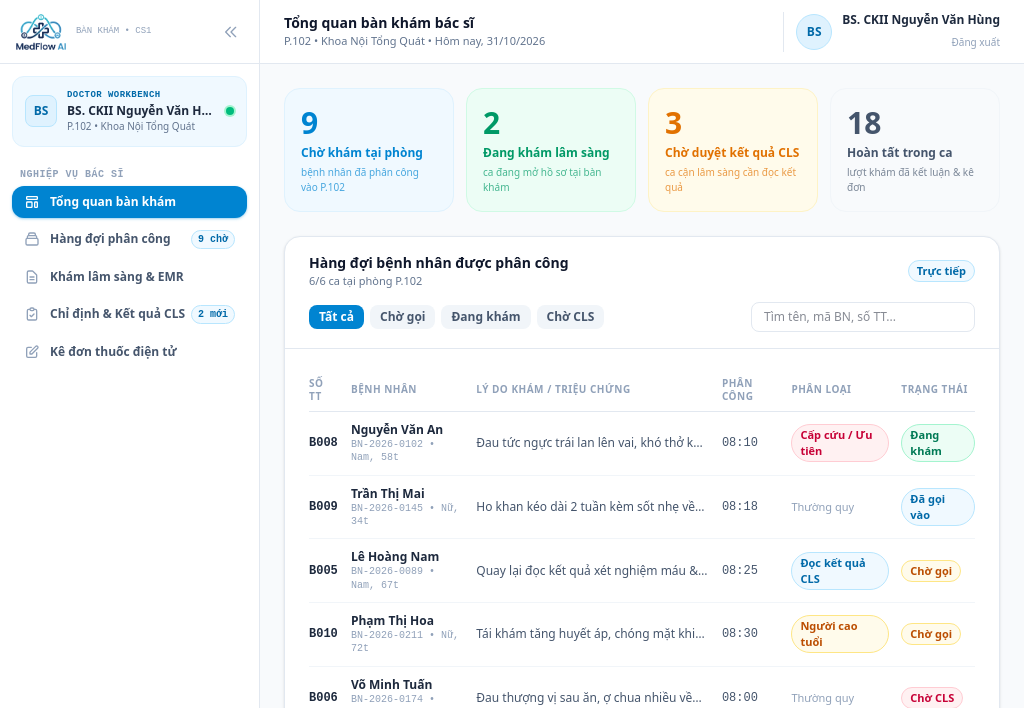
Test: DoctorDashboardPage › filters assigned queue by status and search keyword and shows empty state when unmatched
Click the button "Chờ CLS": (570, 316) [537,304,604,328]
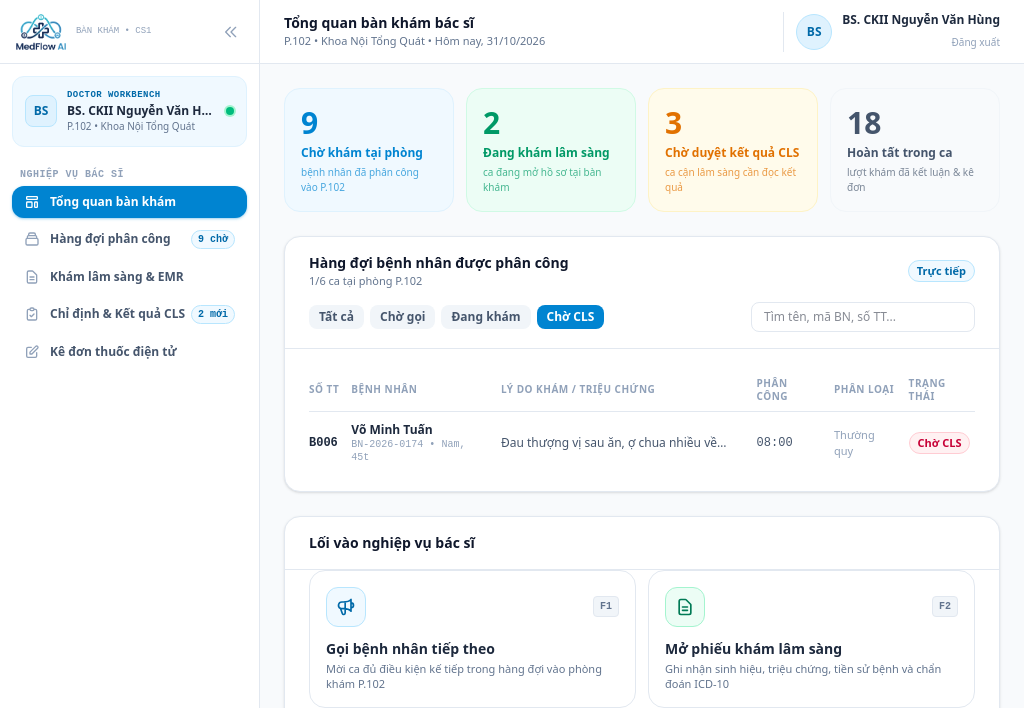
Check: the text "Võ Minh Tuấn" is shown, box [351,421,433,438]
Check: the text "Nguyễn Văn An" is gone
Click the button "Tất cả": (336, 316) [309,304,364,328]
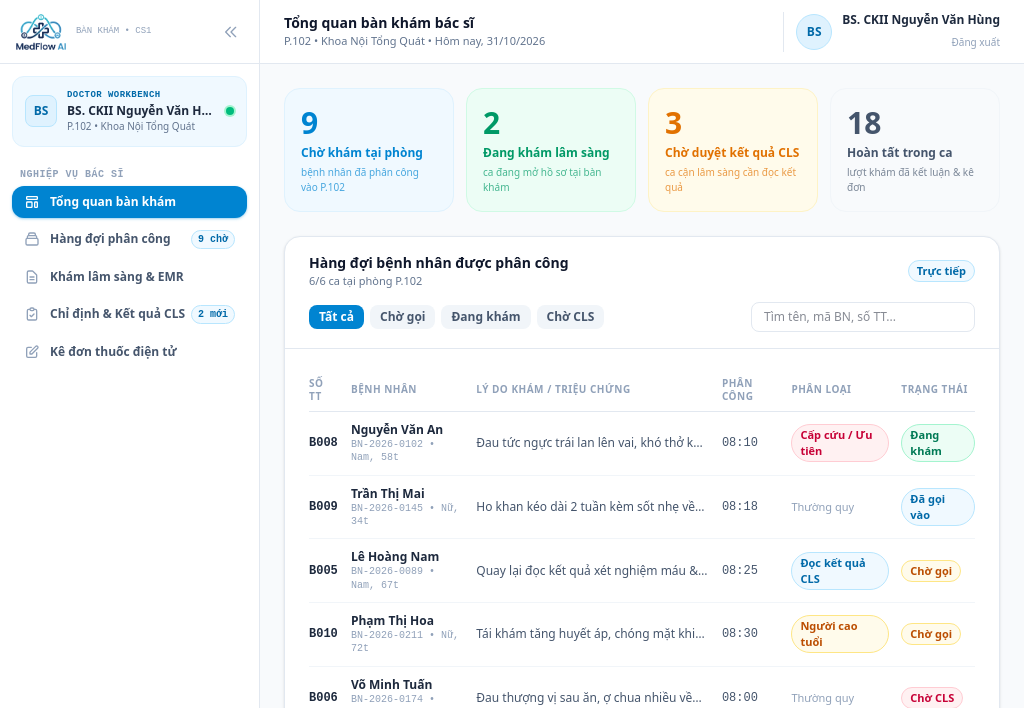
In the search field named "Tìm bệnh nhân trong hàng đợi": (863, 316) [751,302,975,332], type "Trần Thị Mai"
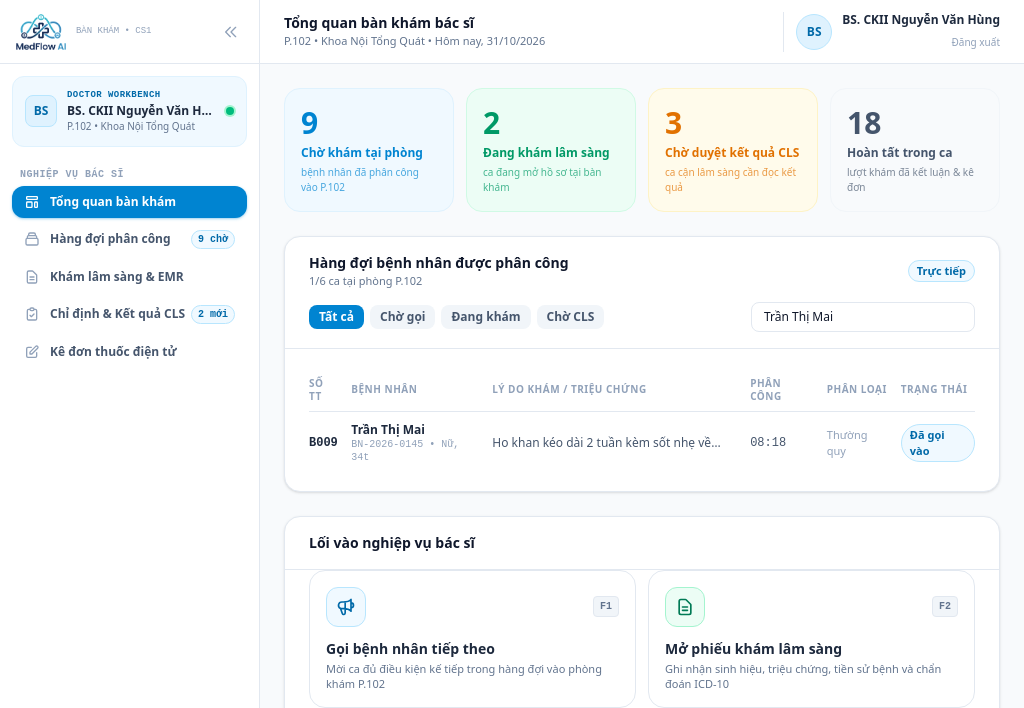
Check: the text "Trần Thị Mai" is shown, box [351,421,425,438]
Check: the text "Nguyễn Văn An" is gone
Replace the text in the search field named "Tìm bệnh nhân trong hàng đợi" with "KHONG_TON_TAI_999": (863, 316) [751,302,975,332]
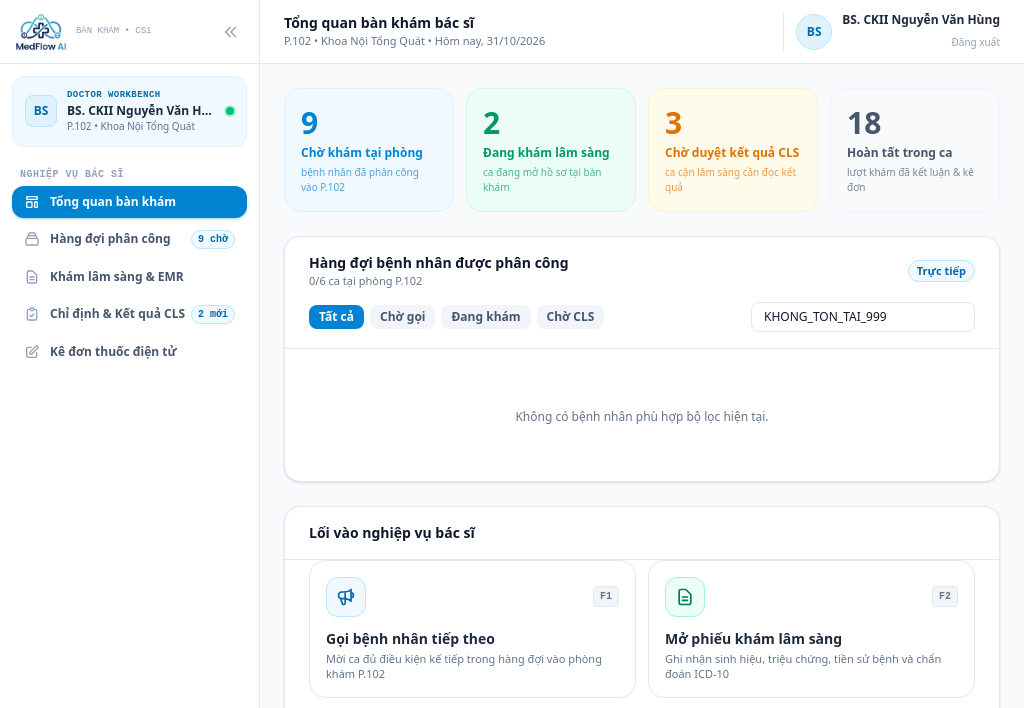
Check: the text "Không có bệnh nhân phù hợp bộ lọc hiện tại." is shown, box [515,408,769,424]
